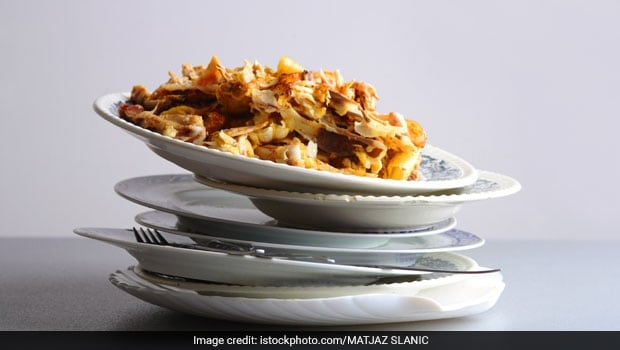glass: (91, 168, 529, 249), (95, 259, 515, 332), (138, 132, 479, 193)
kitchen_waste: (117, 54, 429, 177)
metal: (119, 221, 249, 258)
